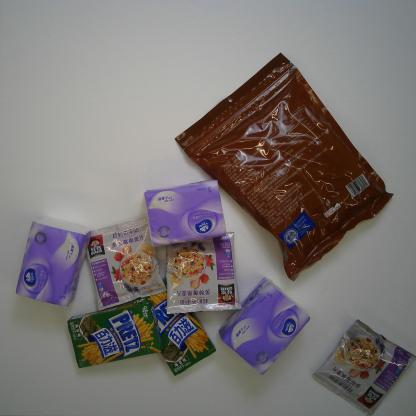Dessert: (130, 276, 218, 377), (67, 298, 164, 369)
Dried Food: (173, 50, 395, 284)
Instant Drink: (310, 316, 416, 416), (86, 216, 169, 312), (164, 230, 243, 315)
Tissue: (218, 276, 311, 376), (15, 221, 91, 308), (143, 178, 227, 249)
